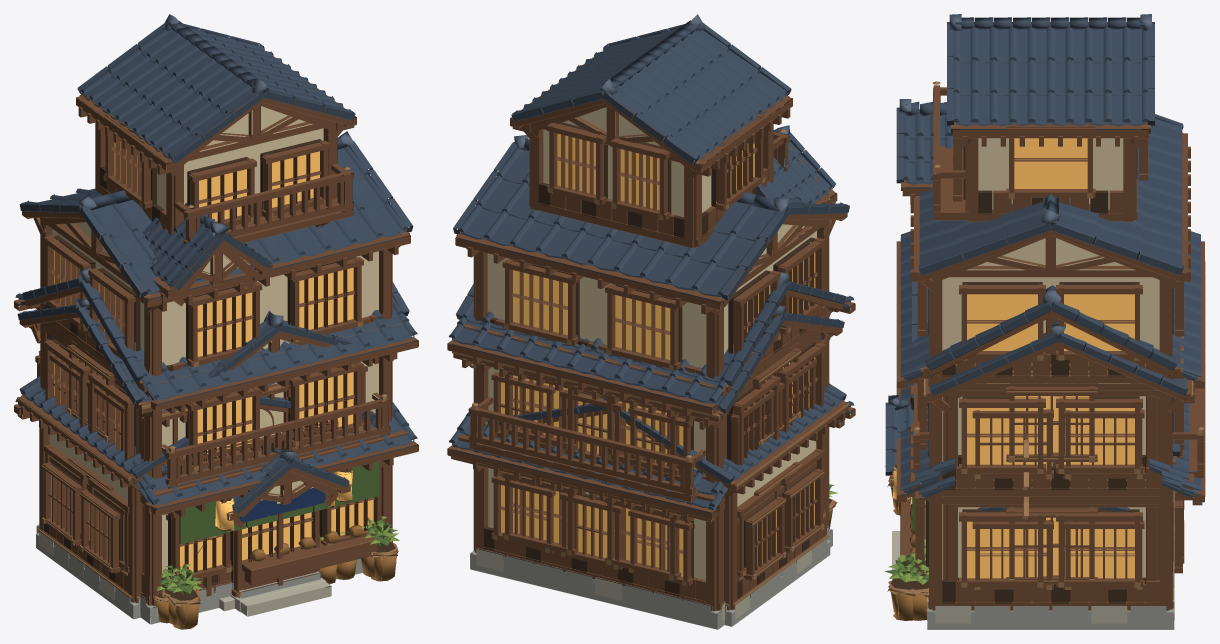
The model's file is compact.glb.
3 renders of one model, left to right at view 1: azimuth 30°, elevation 25°; view 2: azimuth 150°, elevation 25°; view 3: azimuth 270°, elevation 25°, orthographic. The views are drawn at different scales.
Parts seen in each view (by area): view 1: compact_villa_3_geometry, compact_villa_3_geometry ceramic, compact_junction_hub_geometry, compact_hotel_2_geometry, compact_shop_2_geometry, compact_hotel_2_geometry ceramic, compact_shop_2_geometry ceramic, compact_junction_hub_geometry ceramic, compact_tower_2_geometry; view 2: compact_villa_3_geometry, compact_villa_3_geometry ceramic, compact_hotel_2_geometry, compact_junction_hub_geometry, compact_shop_2_geometry ceramic, compact_junction_hub_geometry ceramic, compact_shop_2_geometry, compact_hotel_2_geometry ceramic; view 3: compact_villa_3_geometry, compact_villa_3_geometry ceramic, compact_hotel_2_geometry, compact_shop_2_geometry, compact_hotel_2_geometry ceramic, compact_shop_2_geometry ceramic.
Boxes of the visible parts, x1=… form: compact_villa_3_geometry: x1=14, y1=51, x2=418, y2=629; compact_villa_3_geometry ceramic: x1=15, y1=14, x2=417, y2=510; compact_junction_hub_geometry: x1=17, y1=395, x2=370, y2=623; compact_hotel_2_geometry: x1=17, y1=311, x2=397, y2=601; compact_shop_2_geometry: x1=25, y1=286, x2=407, y2=624; compact_hotel_2_geometry ceramic: x1=17, y1=297, x2=352, y2=513; compact_shop_2_geometry ceramic: x1=22, y1=268, x2=409, y2=489; compact_junction_hub_geometry ceramic: x1=19, y1=376, x2=375, y2=478; compact_tower_2_geometry: x1=66, y1=336, x2=338, y2=610; compact_villa_3_geometry: x1=447, y1=51, x2=855, y2=629; compact_villa_3_geometry ceramic: x1=449, y1=14, x2=854, y2=514; compact_hotel_2_geometry: x1=451, y1=320, x2=844, y2=628; compact_junction_hub_geometry: x1=484, y1=400, x2=849, y2=626; compact_shop_2_geometry ceramic: x1=456, y1=271, x2=845, y2=495; compact_junction_hub_geometry ceramic: x1=487, y1=383, x2=846, y2=484; compact_shop_2_geometry: x1=457, y1=290, x2=843, y2=519; compact_hotel_2_geometry ceramic: x1=453, y1=305, x2=844, y2=515; compact_villa_3_geometry: x1=884, y1=55, x2=1205, y2=629; compact_villa_3_geometry ceramic: x1=896, y1=14, x2=1200, y2=495; compact_hotel_2_geometry: x1=889, y1=294, x2=1204, y2=619; compact_shop_2_geometry: x1=897, y1=311, x2=1193, y2=620; compact_hotel_2_geometry ceramic: x1=885, y1=268, x2=1198, y2=498; compact_shop_2_geometry ceramic: x1=915, y1=285, x2=1188, y2=483.
Bounding box in the file's own units: 1.04 × 1.75 × 0.9283.
